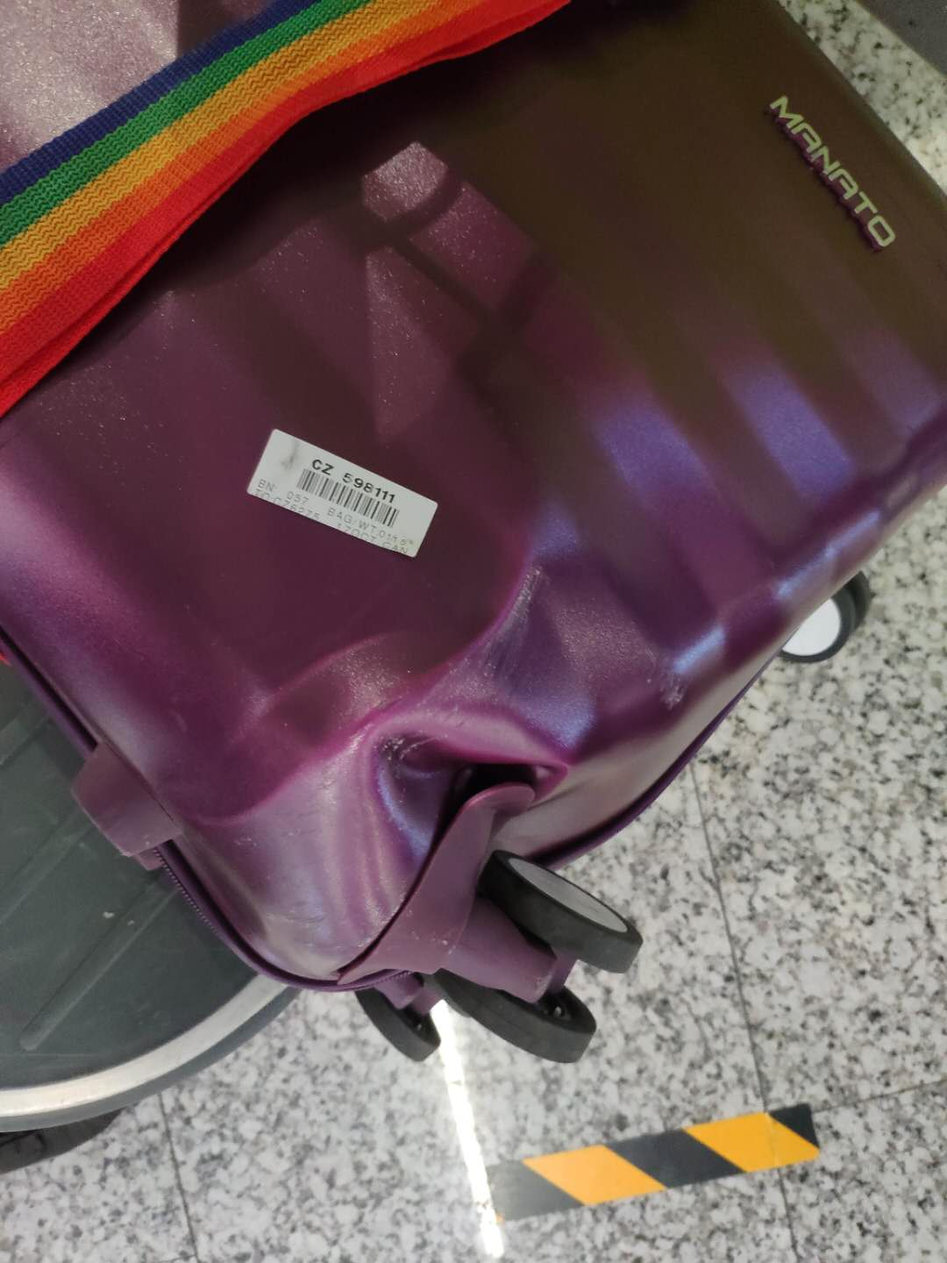rupture: (331, 688, 584, 910)
